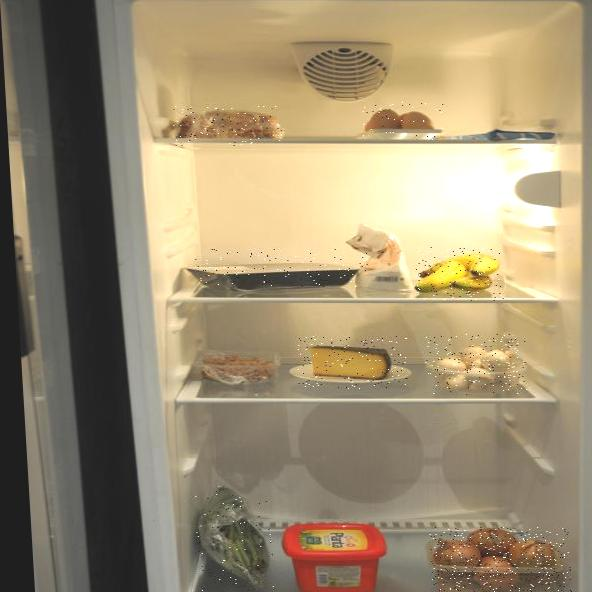banana: (415, 247, 504, 301)
bread: (172, 106, 284, 146)
cheese: (296, 336, 410, 389)
eggs: (361, 102, 445, 140)
green beans: (194, 490, 275, 591)
meat: (192, 249, 369, 287)
mushroom: (424, 334, 528, 395)
onion: (429, 527, 572, 592)
